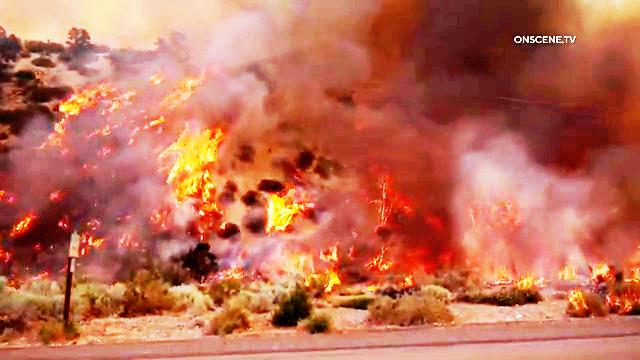fire: (92, 53, 242, 142), (146, 108, 236, 247), (354, 165, 440, 307), (55, 77, 146, 165), (453, 189, 531, 285), (234, 246, 342, 302), (251, 182, 309, 240)
smoke: (308, 6, 490, 84), (477, 55, 636, 141), (554, 197, 640, 256)
